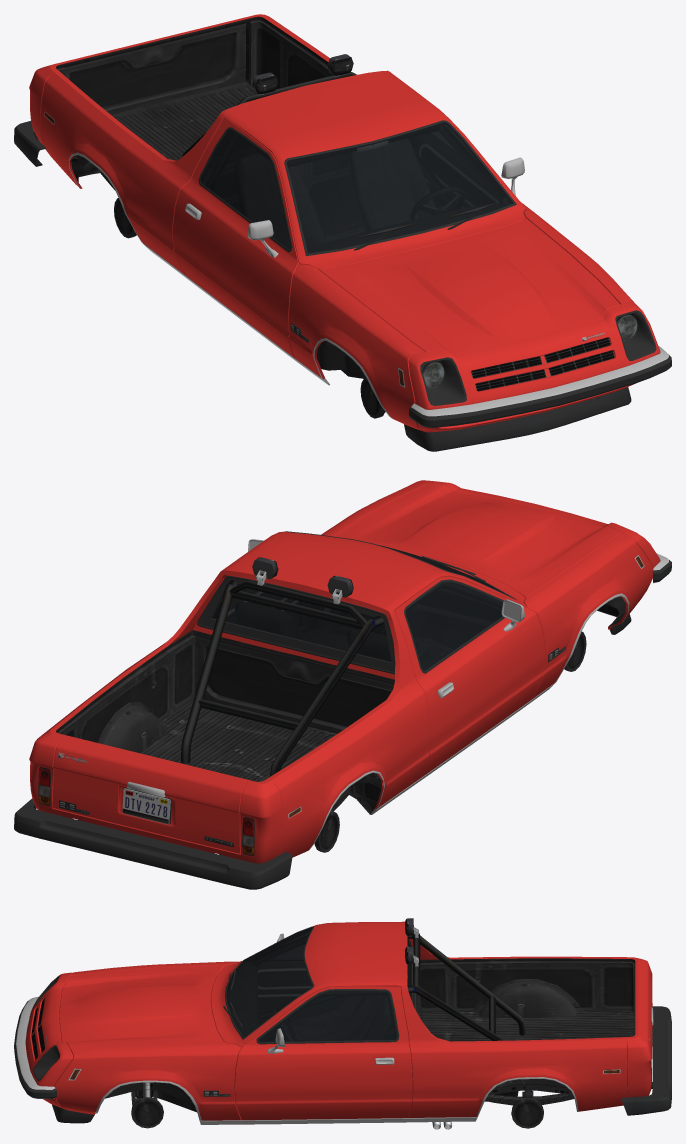
The model's file is doutrive.glb.
3 renders of one model, top to bottom at view 1: azimuth 30°, elevation 25°; view 2: azimuth 150°, elevation 25°; view 3: azimuth 270°, elevation 25°, orthographic. The views are drawn at different scales.
Visible parts, largest first — view 1: part0, part1, part2, part3; view 2: part0, part1, part2, part3, part6; view 3: part0, part1, part2, part3.
Boxes of the visible parts, x1,y1,x2,y2 form: part0: (29, 14, 660, 432); part1: (14, 16, 671, 451); part2: (200, 122, 637, 388); part3: (235, 134, 510, 252); part0: (29, 480, 660, 863); part1: (14, 531, 671, 889); part2: (39, 545, 504, 855); part3: (226, 589, 500, 670); part6: (122, 788, 170, 824); part0: (25, 921, 652, 1120); part1: (14, 918, 671, 1129); part2: (57, 927, 651, 1082); part3: (229, 961, 392, 1041).
Size of the model in its own units: 1.54 by 1.08 by 4.14.
Materials: 8 (7 with a texture image).
